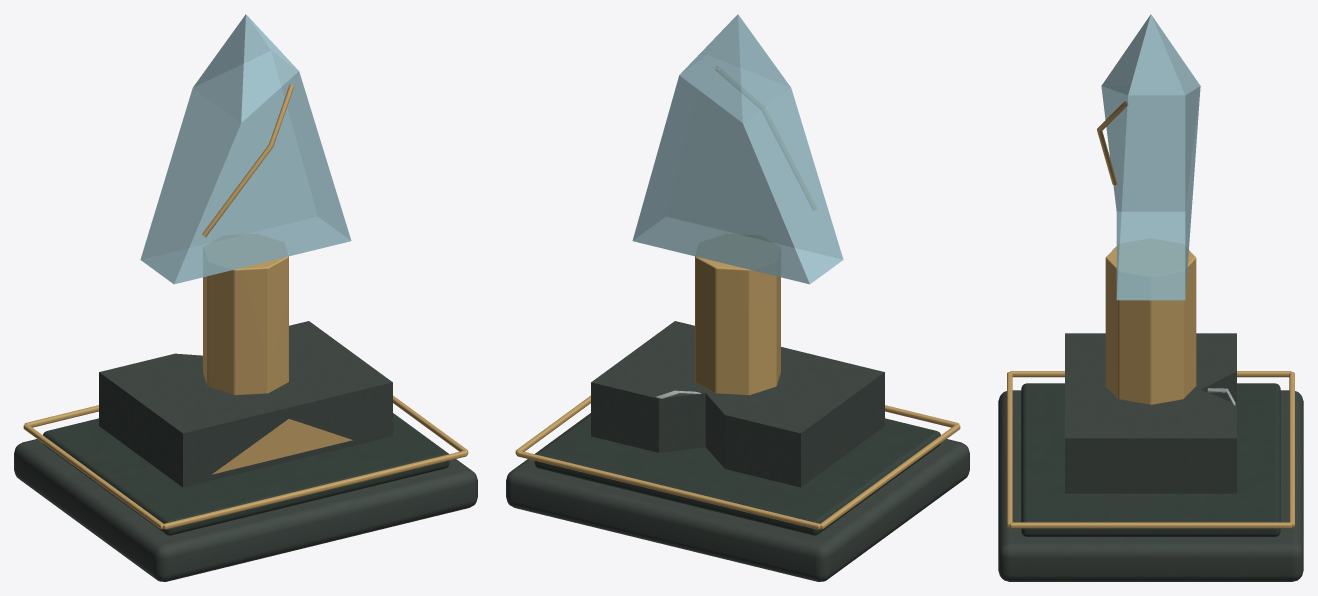
The model's file is aurora-trophy.glb.
3 views of the same model, side by side, from view 1: azimuth 30°, elevation 25°; view 2: azimuth 150°, elevation 25°; view 3: azimuth 270°, elevation 25° (orthographic). The views are drawn at different scales.
Visible parts, largest first — view 1: trophy_front, damaged_base, display_base, felt_insert, pedestal, mountain_crest, brass_rim_Front, brass_rim_Left, aurora_inlay, brass_rim_Right; view 2: trophy_front, damaged_base, display_base, felt_insert, pedestal, brass_rim_Back, brass_rim_Left, brass_rim_Right; view 3: damaged_base, trophy_front, felt_insert, display_base, pedestal, brass_rim_Right, brass_rim_Back, brass_rim_Front, brass_rim_Left, aurora_inlay.
Boxes of the visible parts, x1,y1,x2,y2 form: trophy_front: (140, 14, 351, 284); damaged_base: (99, 321, 392, 487); display_base: (14, 413, 477, 581); felt_insert: (43, 414, 449, 535); pedestal: (203, 256, 288, 395); mountain_crest: (212, 419, 352, 474); brass_rim_Front: (163, 450, 467, 529); brass_rim_Left: (23, 424, 163, 529); aurora_inlay: (202, 84, 294, 237); brass_rim_Right: (393, 395, 468, 454); trophy_front: (632, 14, 843, 284); damaged_base: (591, 321, 884, 487); display_base: (506, 413, 969, 581); felt_insert: (534, 414, 940, 535); pedestal: (695, 256, 780, 395); brass_rim_Back: (516, 450, 820, 529); brass_rim_Left: (820, 424, 960, 529); brass_rim_Right: (515, 395, 590, 454); damaged_base: (1065, 333, 1236, 493); trophy_front: (1101, 14, 1200, 300); felt_insert: (1021, 383, 1280, 536); display_base: (998, 390, 1303, 581); pedestal: (1105, 246, 1196, 404); brass_rim_Right: (1009, 522, 1292, 528); brass_rim_Back: (1289, 372, 1294, 527); brass_rim_Front: (1007, 372, 1012, 527); brass_rim_Left: (1010, 371, 1291, 377); aurora_inlay: (1097, 101, 1128, 185).
Bounding box in the file's own units: 0.2 × 0.284 × 0.16.
Materials: 5 (2 with a texture image).
